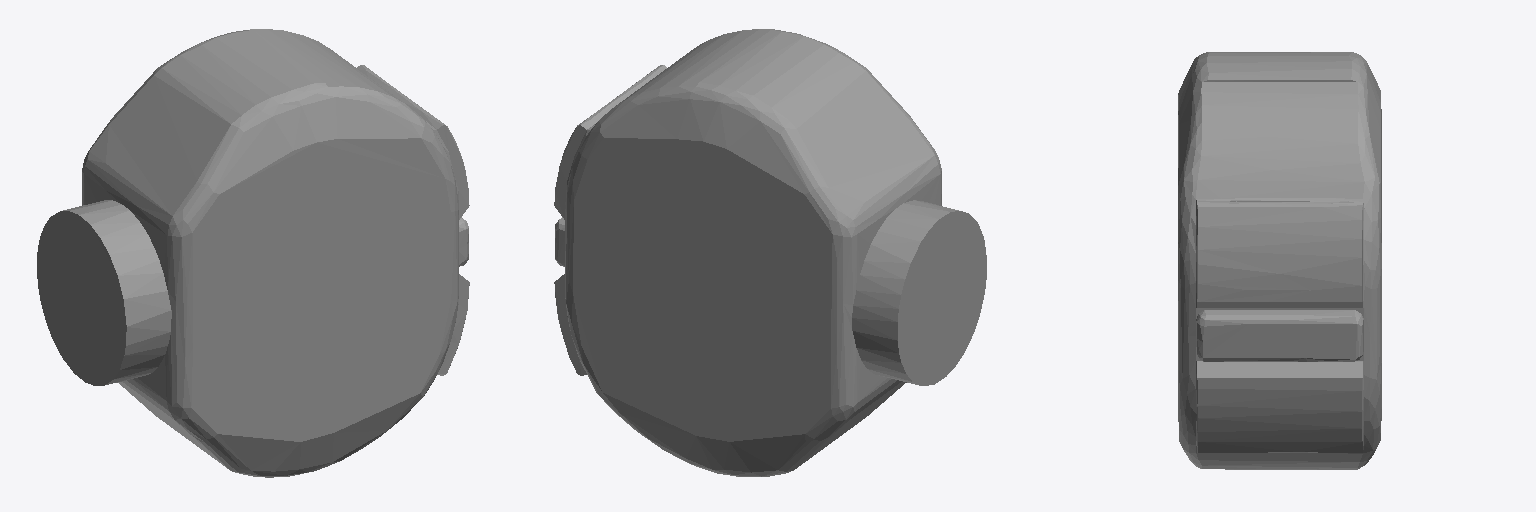
The model's file is gripper_palm.obj.
3 renders of one model, left to right at view 1: azimuth 30°, elevation 25°; view 2: azimuth 150°, elevation 25°; view 3: azimuth 270°, elevation 25°, orthographic.
Parts seen in each view (by area): view 1: palm3_M1000_palm3_M1000Shape; view 2: palm3_M1000_palm3_M1000Shape; view 3: palm3_M1000_palm3_M1000Shape.
Boxes of the visible parts, x1,y1,x2,y2 form: palm3_M1000_palm3_M1000Shape: [37, 29, 469, 477]; palm3_M1000_palm3_M1000Shape: [554, 29, 986, 476]; palm3_M1000_palm3_M1000Shape: [1178, 52, 1381, 469].
Bounding box in the file's own units: 0.0961 × 0.102 × 0.0485.